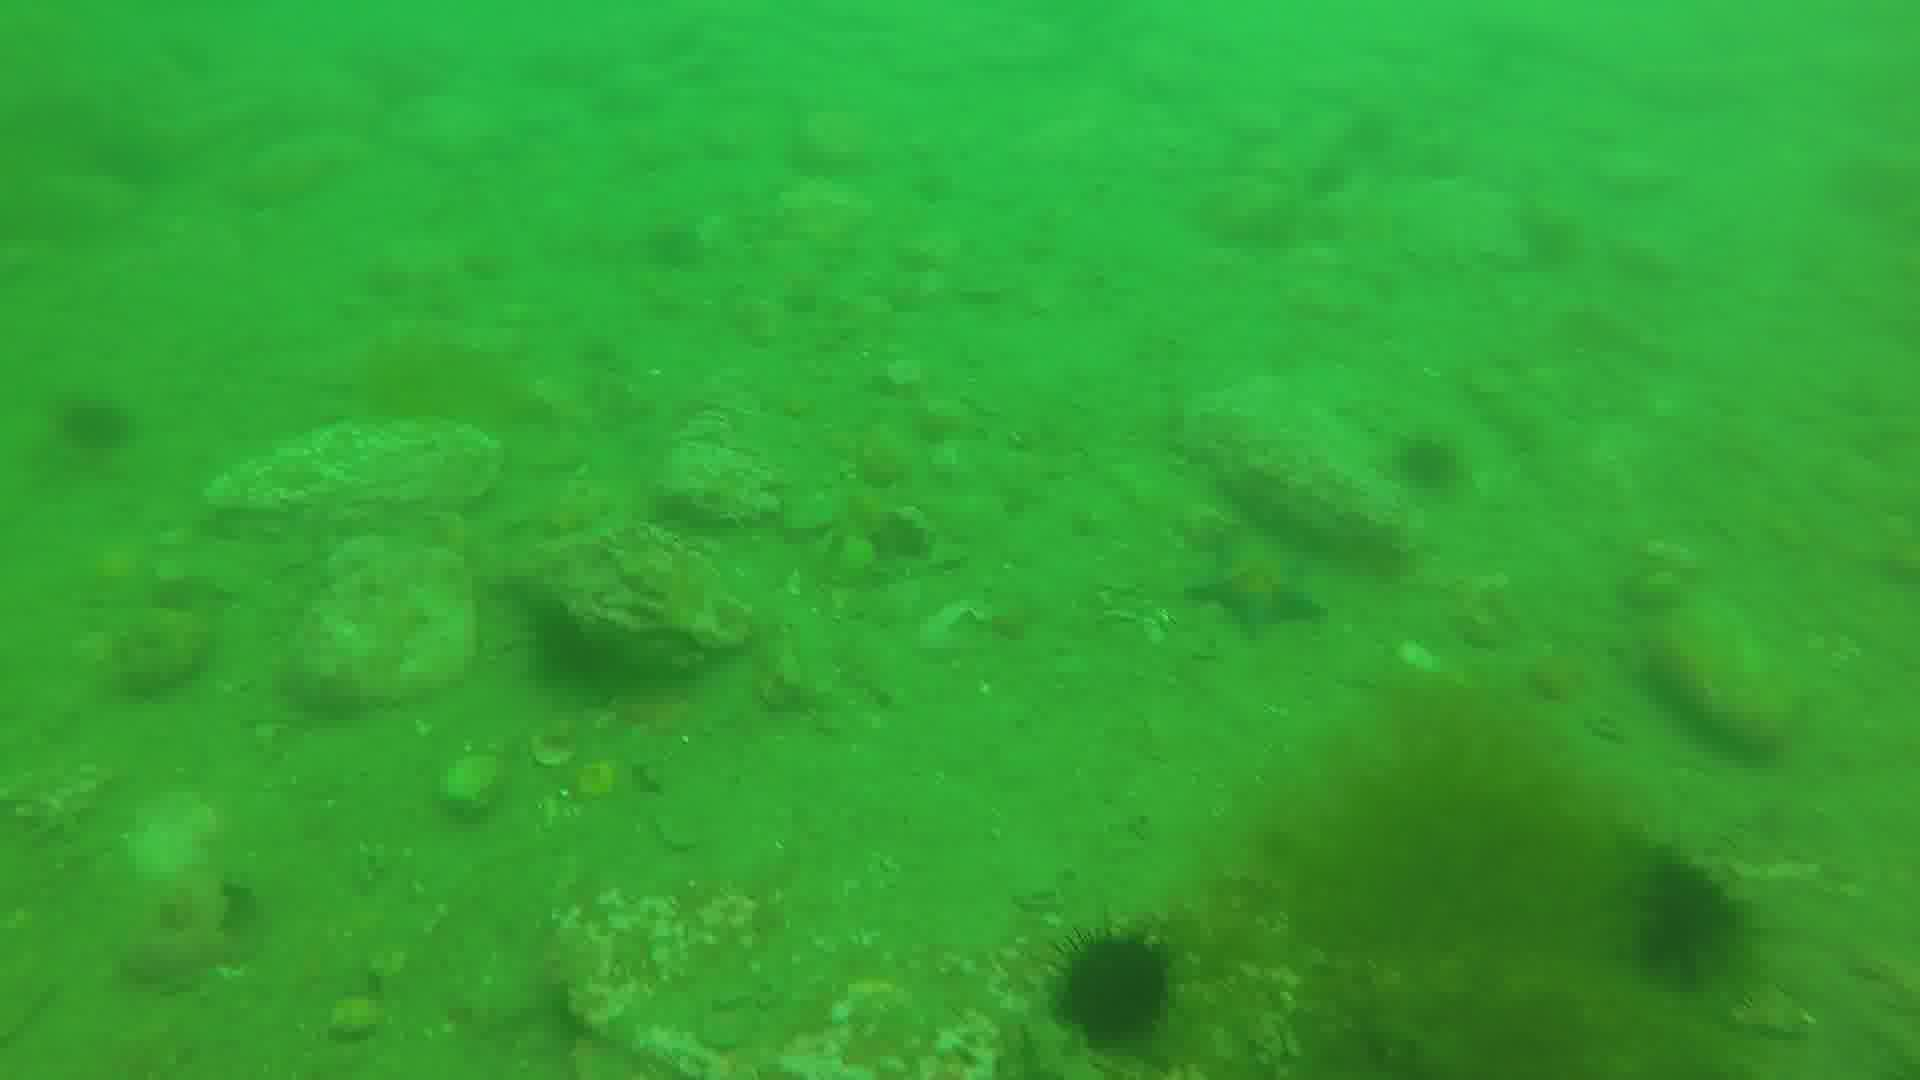echinus: (1631, 840, 1742, 978), (1060, 932, 1168, 1042), (57, 401, 137, 450), (1400, 439, 1462, 496)
starfish: (1187, 530, 1333, 640), (861, 498, 947, 566)
